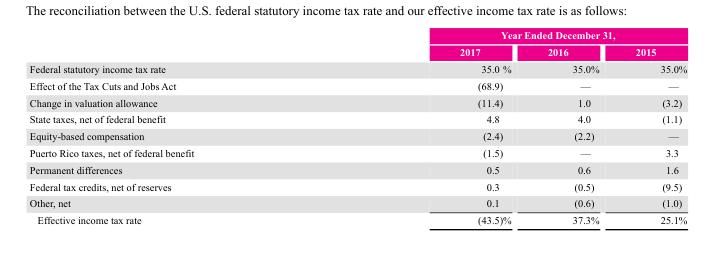table: (28, 29, 686, 225)
table column: (28, 29, 326, 225), (326, 29, 528, 225), (528, 29, 616, 225), (616, 29, 686, 225)
table column header: (28, 29, 686, 60)
table row: (28, 43, 686, 60), (28, 76, 686, 93), (28, 93, 686, 110), (28, 110, 686, 127), (28, 127, 686, 144), (28, 160, 686, 177), (28, 177, 686, 194), (28, 194, 686, 211), (28, 60, 686, 76), (28, 144, 686, 160), (28, 29, 686, 43), (28, 211, 686, 225)
table spanning cell: (326, 29, 686, 43)
